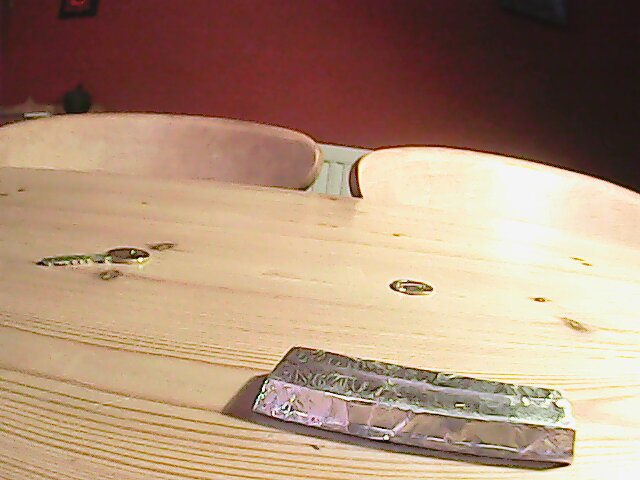Coin: (389, 277, 436, 298)
Foil: (250, 343, 578, 470)
Key: (39, 244, 151, 273)
